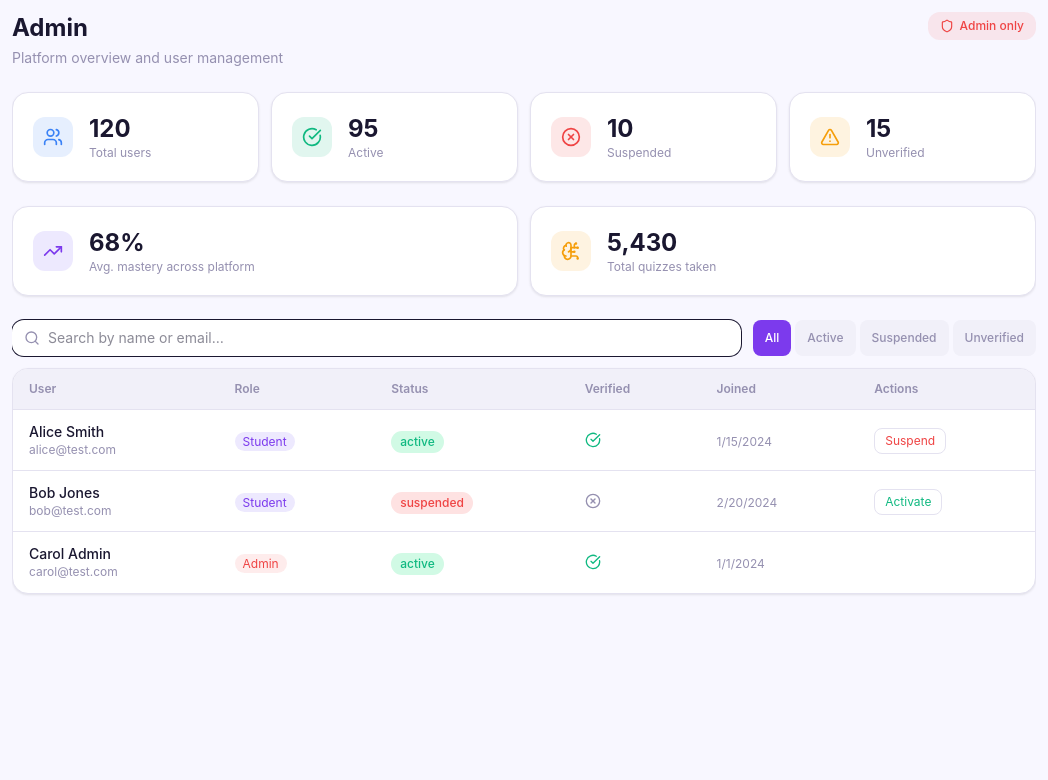
Test: AdminPage › shows no users message when filter matches nothing
Expected: the text "Alice Smith" is shown, [29, 423, 104, 440]
Type "zzz_nobody" into the field with placeholder "Search by name or email…" at [376, 338], box [12, 320, 741, 356]
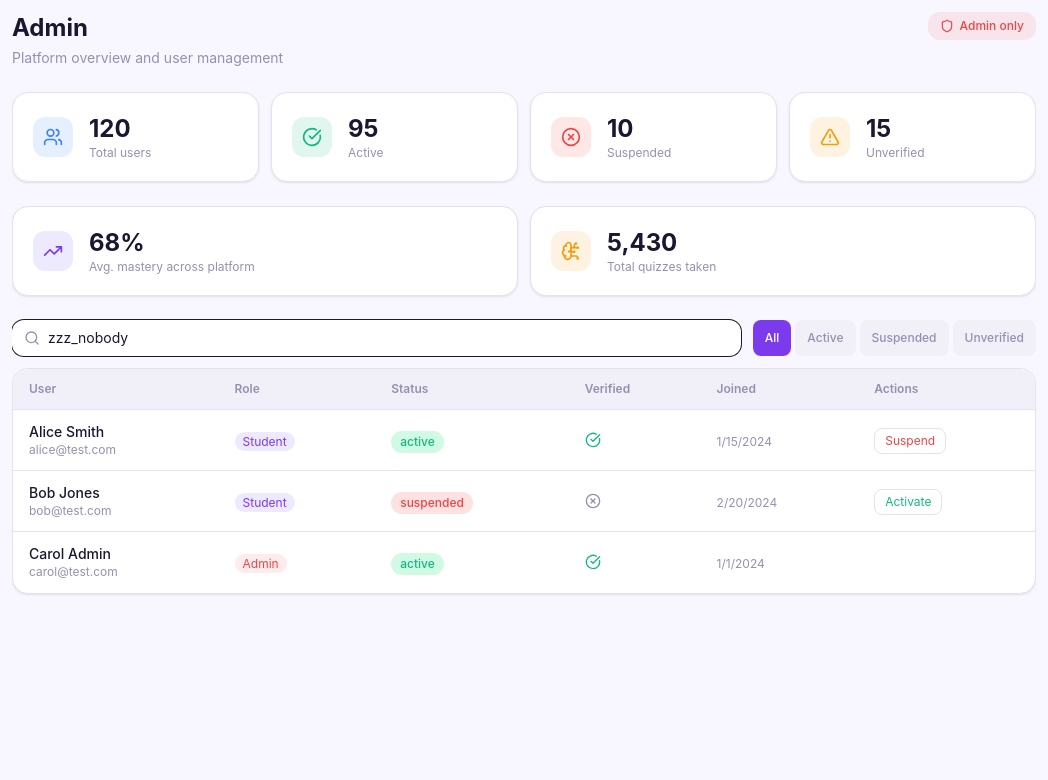
Press Enter in the field with placeholder "Search by name or email…", box [12, 320, 741, 356]
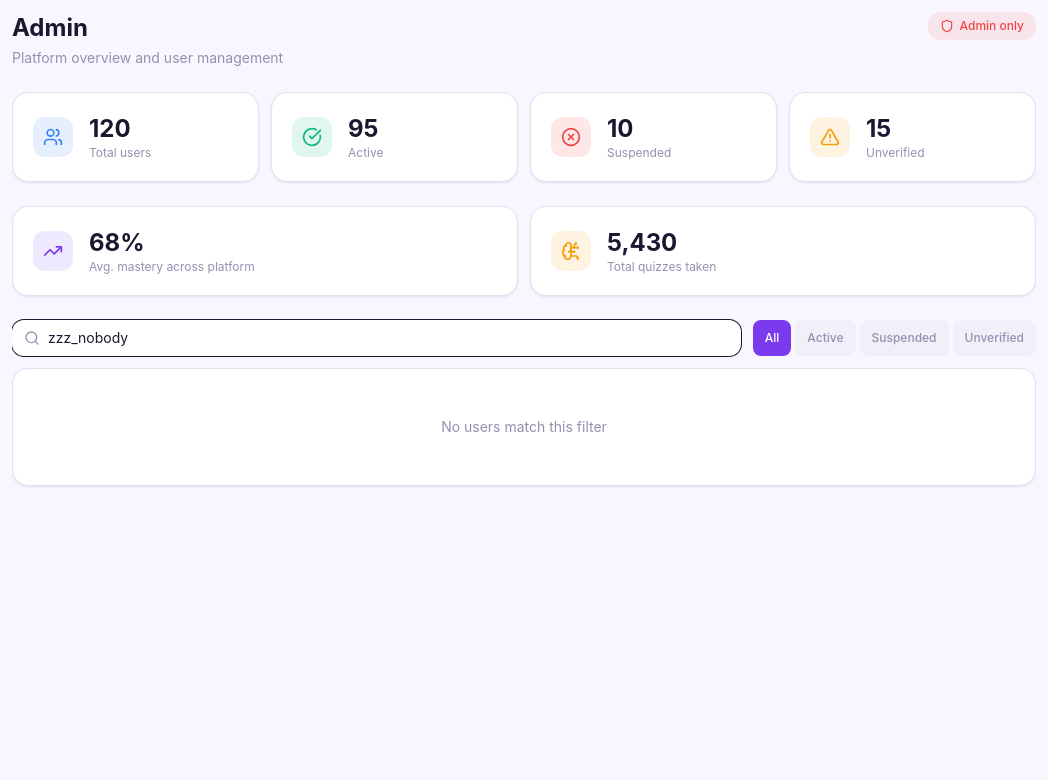
Expected: the text "No users match this filter" is shown, [441, 418, 607, 435]
